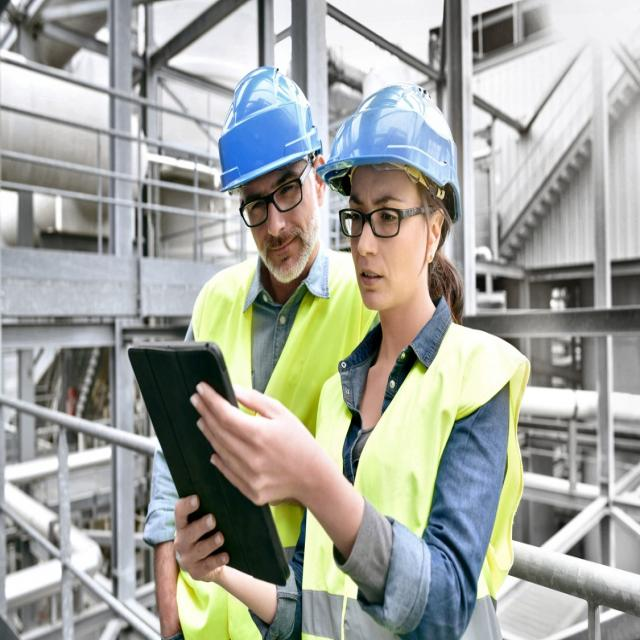Reflective-Jacket: (174, 258, 365, 638), (303, 323, 528, 627)
Safety-Helmet: (319, 74, 468, 210), (212, 62, 321, 192)
